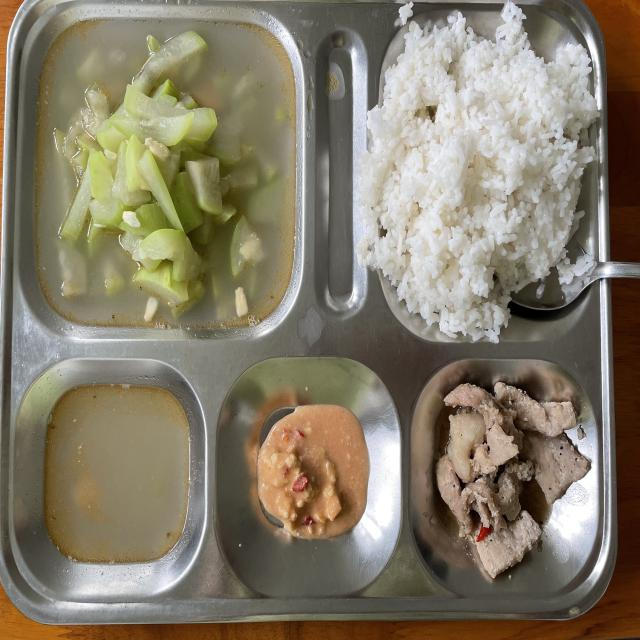canh bau: (34, 15, 293, 328)
com: (360, 3, 600, 342)
kho tieu: (421, 357, 599, 571)
